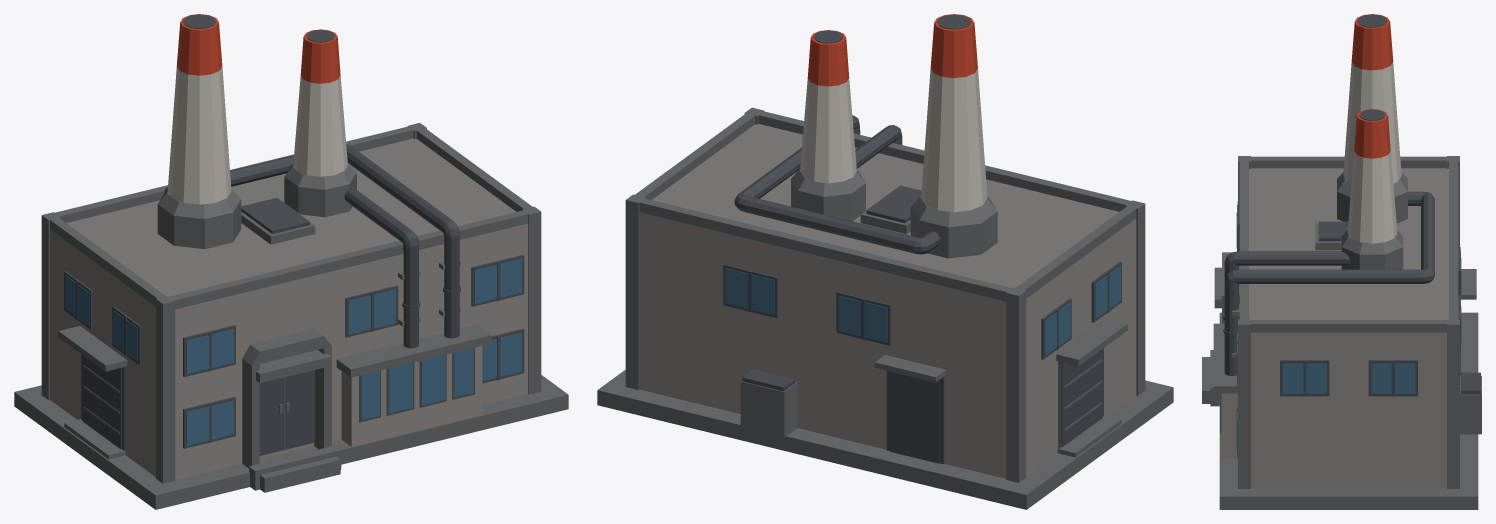
The model's file is factory.fbx.
3 renders of one model, left to right at view 1: azimuth 30°, elevation 25°; view 2: azimuth 150°, elevation 25°; view 3: azimuth 270°, elevation 25°, orthographic. The views are drawn at different scales.
Parts seen in each view (by area): view 1: Win_F1_Frame.001; view 2: Win_F1_Frame.001; view 3: Win_F1_Frame.001.
Boxes of the visible parts, bbox=[...] form: Win_F1_Frame.001: bbox=[14, 14, 568, 509]; Win_F1_Frame.001: bbox=[597, 14, 1173, 509]; Win_F1_Frame.001: bbox=[1202, 14, 1481, 509].
Bounding box in the file's own units: 842 × 767 × 537.
